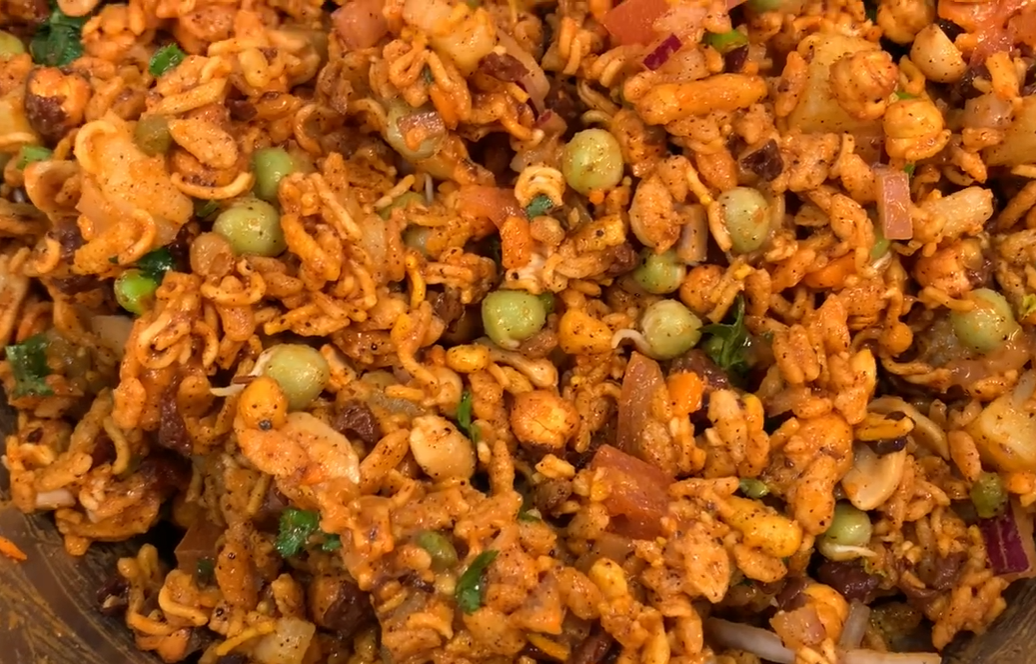chatpate: (17, 9, 1023, 653)
